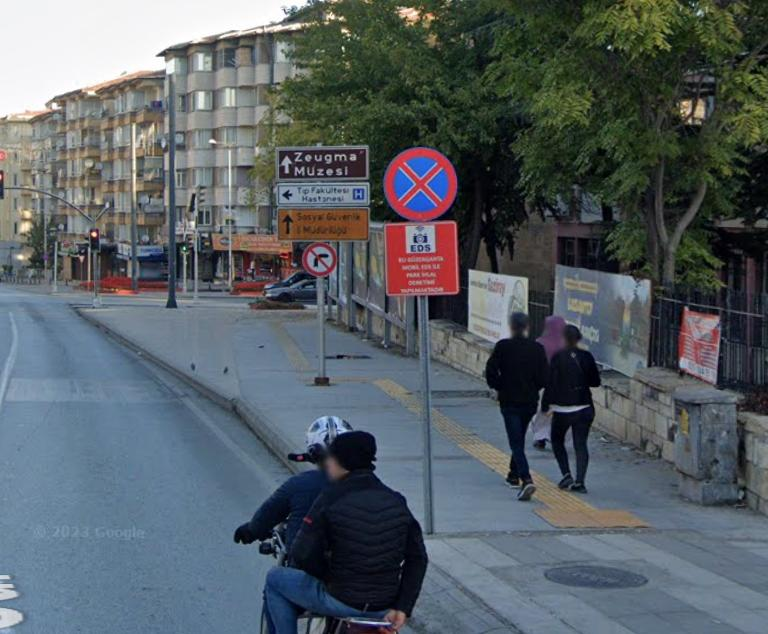rightturnsareforbidden: (304, 243, 339, 276)
